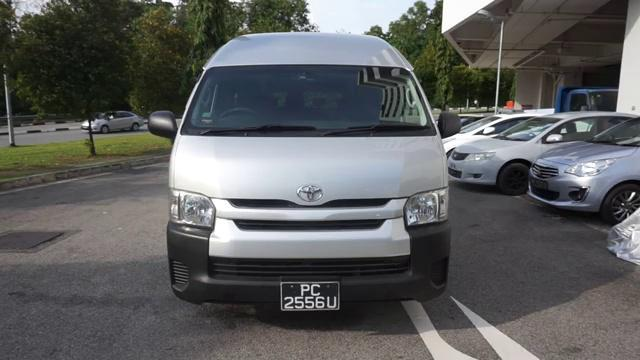Van: (167, 33, 455, 314)
